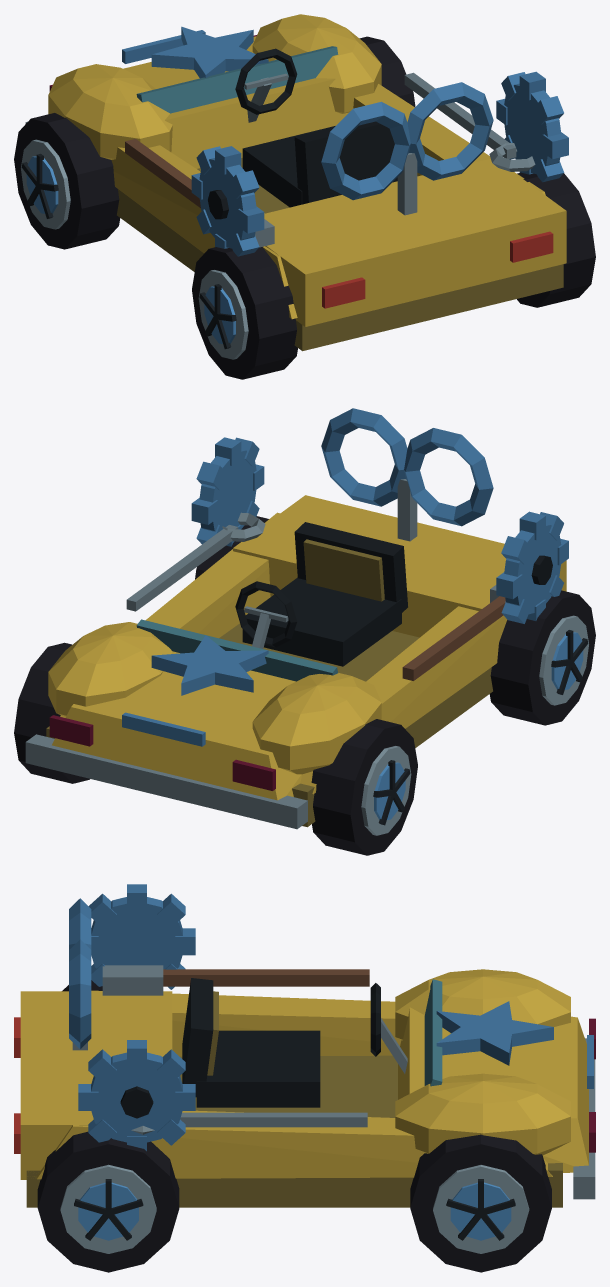
The model's file is kart.glb.
3 views of the same model, one above another, from view 1: azimuth 30°, elevation 25°; view 2: azimuth 150°, elevation 25°; view 3: azimuth 270°, elevation 25° (orthographic). The views are drawn at different scales.
Parts seen in each view (by area): view 1: identity-toy-car-toy-rounded-body-and-wind-up-key, identity-toy-car-motif-gears, wheel-rear-left, wheel-front-left, identity-toy-car-driver-cockpit, wheel-rear-right, identity-toy-car-motif-tools, identity-toy-car-motif-star, wheel-front-right; view 2: identity-toy-car-toy-rounded-body-and-wind-up-key, identity-toy-car-driver-cockpit, identity-toy-car-motif-gears, wheel-front-left, wheel-rear-left, identity-toy-car-motif-tools, identity-toy-car-motif-star, wheel-front-right; view 3: identity-toy-car-toy-rounded-body-and-wind-up-key, identity-toy-car-motif-gears, wheel-front-right, wheel-rear-right, identity-toy-car-driver-cockpit, identity-toy-car-motif-tools, identity-toy-car-motif-star.
Part boxes in pixels (x1,y1,x2,y2): identity-toy-car-toy-rounded-body-and-wind-up-key: (25, 14, 566, 351); identity-toy-car-motif-gears: (191, 71, 568, 256); wheel-rear-left: (192, 247, 297, 379); wheel-front-left: (14, 113, 120, 249); identity-toy-car-driver-cockpit: (235, 48, 397, 207); wheel-rear-right: (517, 172, 595, 307); identity-toy-car-motif-tools: (125, 72, 535, 247); identity-toy-car-motif-star: (151, 26, 268, 78); wheel-front-right: (359, 36, 415, 106); identity-toy-car-toy-rounded-body-and-wind-up-key: (25, 408, 566, 829); identity-toy-car-driver-cockpit: (235, 522, 407, 666); identity-toy-car-motif-gears: (191, 437, 568, 623); wheel-front-left: (311, 719, 417, 855); wheel-rear-left: (489, 590, 595, 725); identity-toy-car-motif-tools: (126, 512, 505, 680); identity-toy-car-motif-star: (151, 635, 268, 695); wheel-front-right: (14, 642, 89, 783); identity-toy-car-toy-rounded-body-and-wind-up-key: (14, 898, 595, 1207); identity-toy-car-motif-gears: (78, 884, 195, 1151); wheel-front-right: (410, 1134, 551, 1272); wheel-rear-right: (37, 1131, 179, 1272); identity-toy-car-driver-cockpit: (182, 978, 407, 1107); identity-toy-car-motif-tools: (102, 965, 369, 1134); identity-toy-car-motif-star: (436, 1001, 553, 1065).
Bounding box in the file's own units: 2.13 × 1.42 × 2.88.
